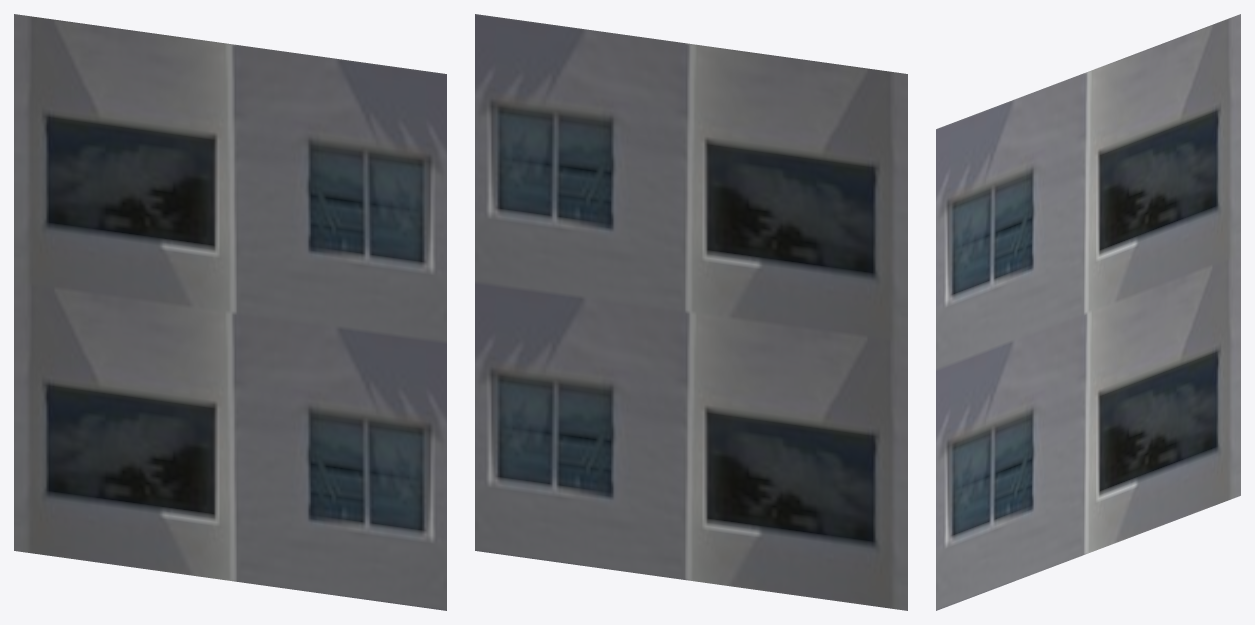
File: ResTex__2008.fbx
3 renders of one model, left to right at view 1: azimuth 30°, elevation 25°; view 2: azimuth 210°, elevation 25°; view 3: azimuth 270°, elevation 25°, orthographic. The views are drawn at different scales.
Visible parts, largest first — view 1: CityEngineMaterial_10_m; view 2: CityEngineMaterial_10_m; view 3: CityEngineMaterial_10_m.
Boxes of the visible parts, box(x1,y1,x2,y2) form: CityEngineMaterial_10_m: box(14, 14, 446, 610); CityEngineMaterial_10_m: box(475, 14, 907, 610); CityEngineMaterial_10_m: box(936, 14, 1240, 610).
Size of the model in its own units: 3.08 by 6 by 3.44.
Materials: 1 (1 with a texture image).
